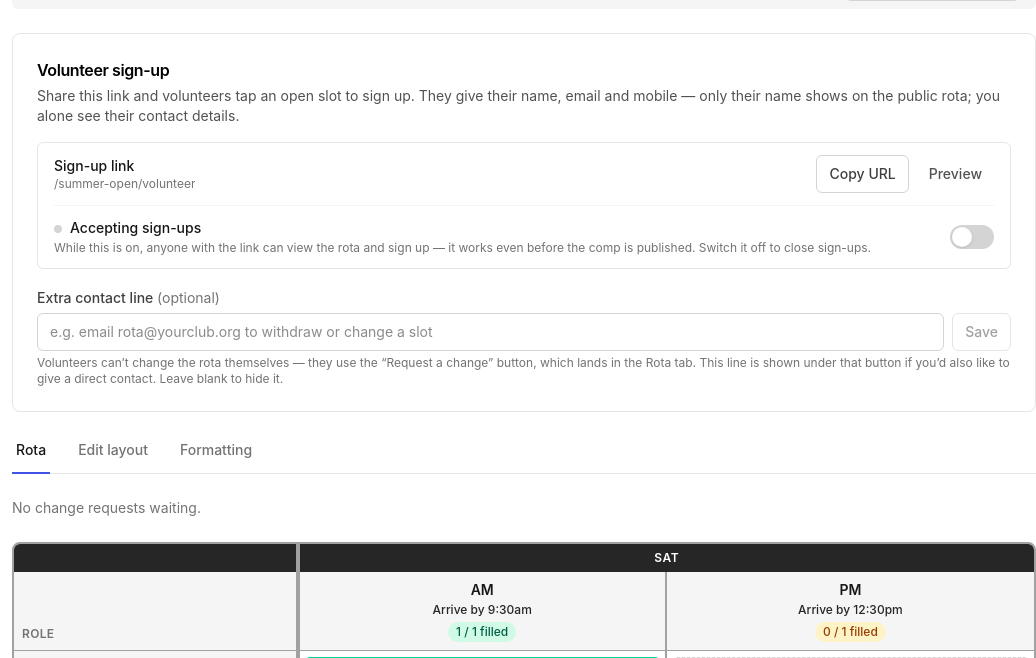
Test: RotaBuilder — layout › adds a role to every column at once
Click the tab "Edit layout" at (113, 455), box [74,436,152,474]
(page scrolled)
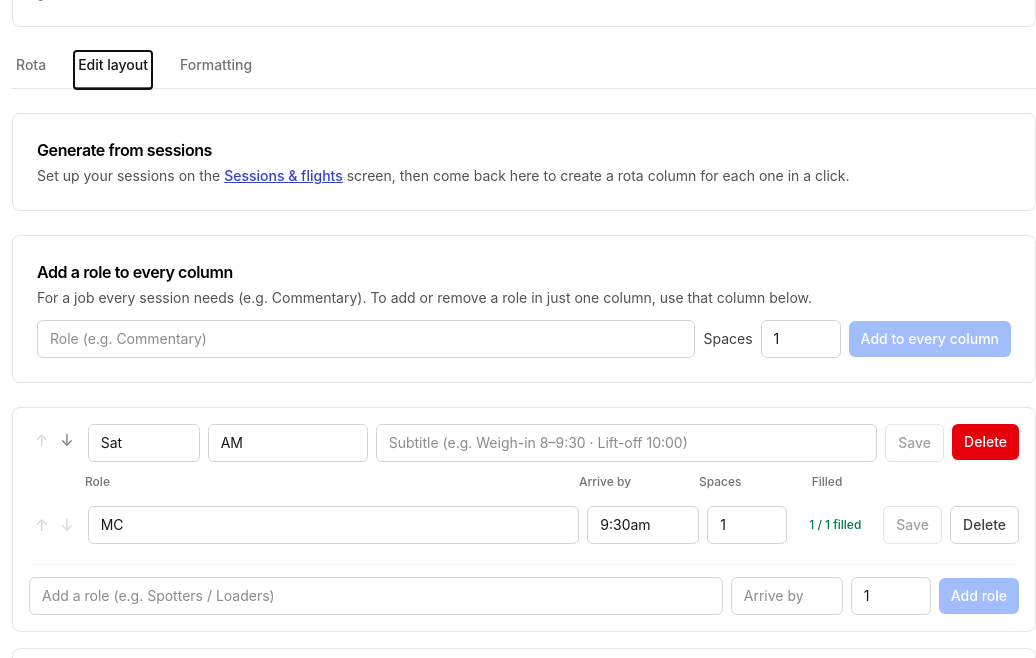
Type "Commentary" into the field named "Role for every column" at (366, 339), box [37,320,696,358]
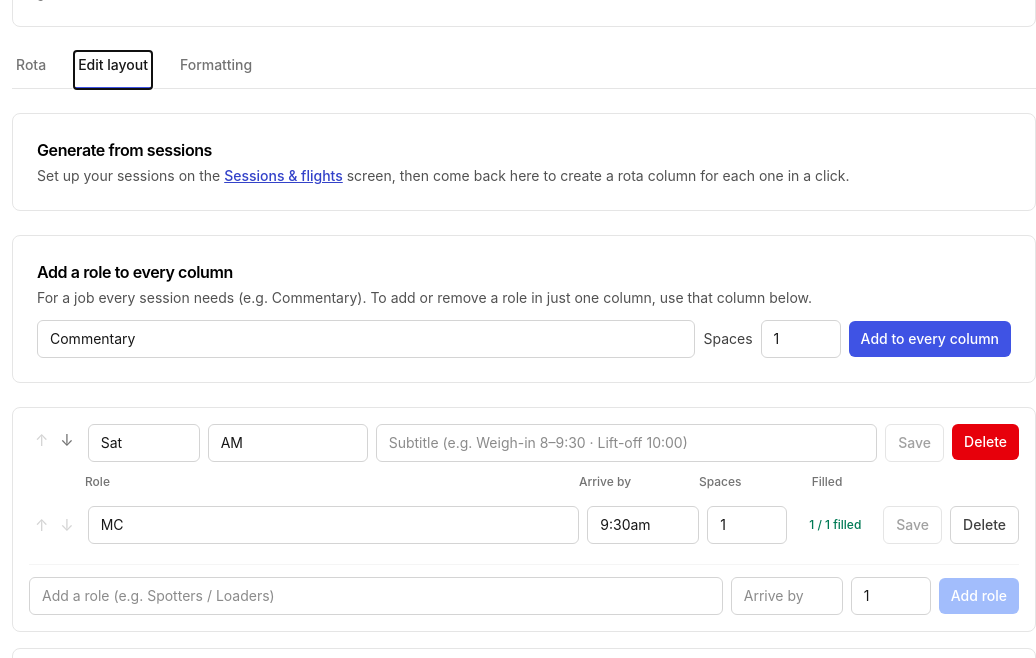
Replace the text in the number field named "Spaces for every column" with "2" at (801, 339), box [761,320,841,358]
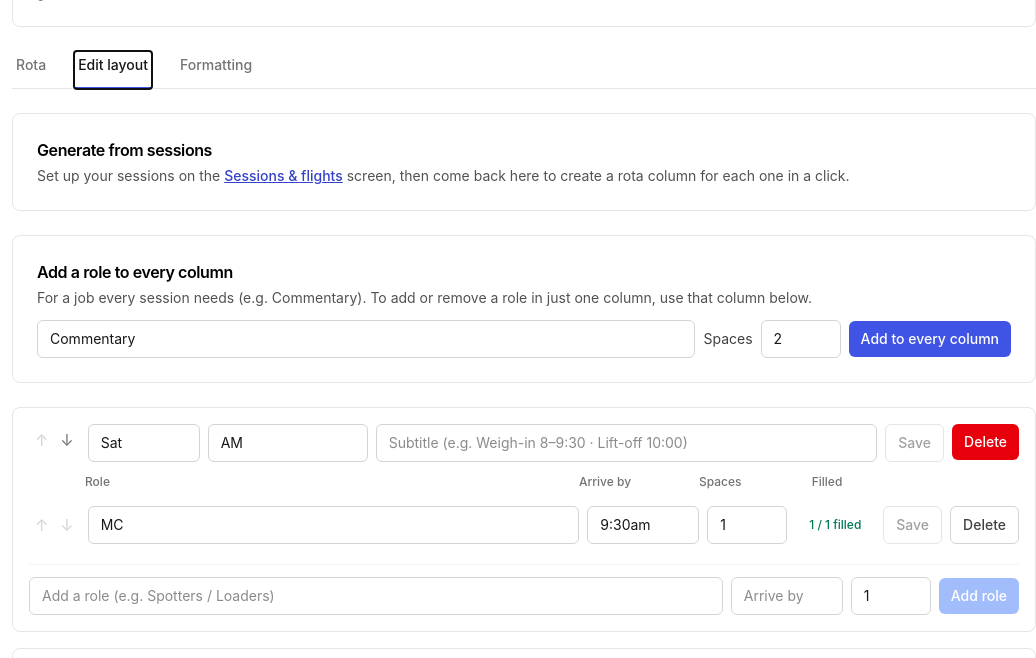
Click the button "Add to every column" at (930, 339), box [849,321,1011,357]
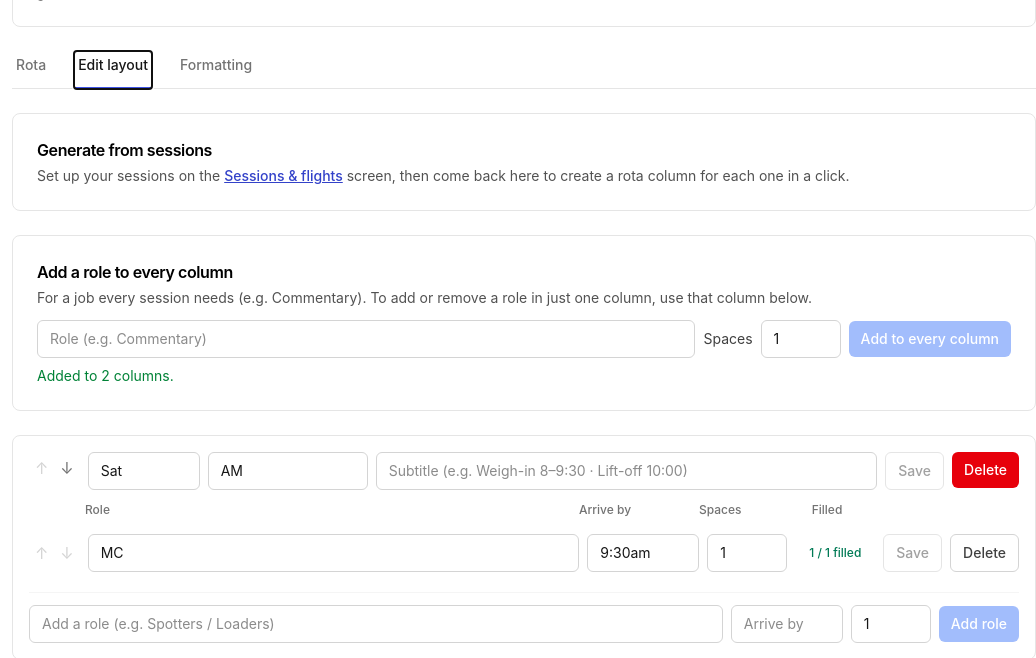
Now the text "Added to 2 columns." is shown, box [37,367,174,384]
